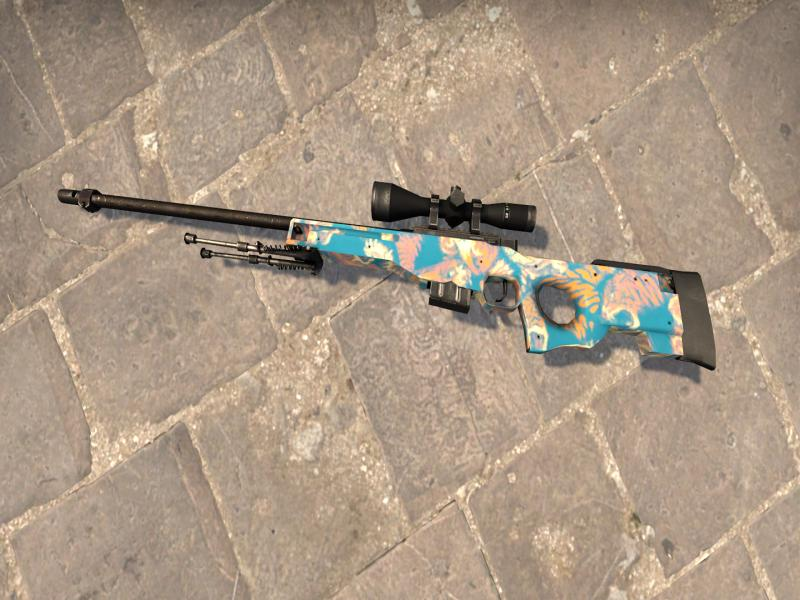AWP: (46, 176, 724, 380)
